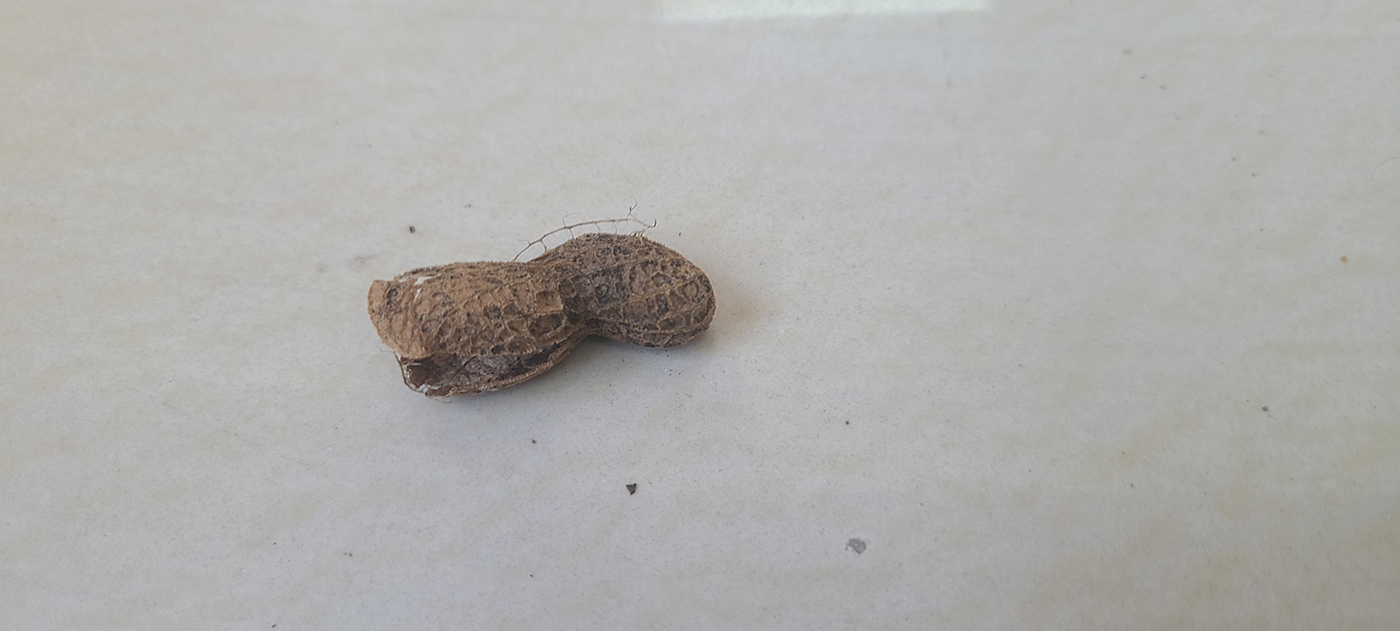l: (364, 232, 716, 401)
